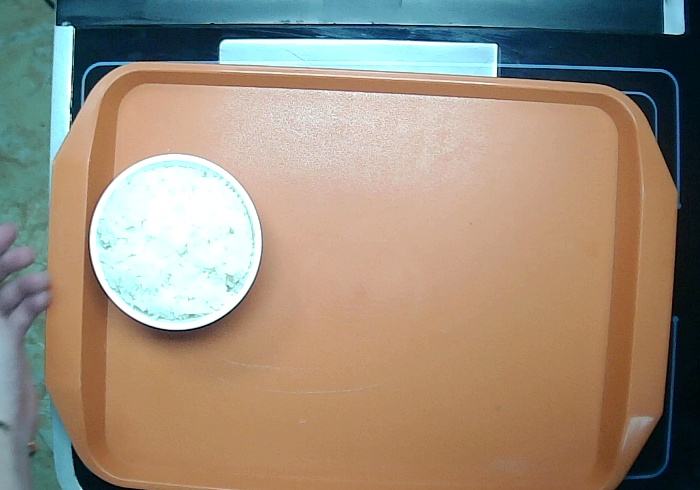HZYJPL-Fan_Wan: (87, 152, 264, 335)
